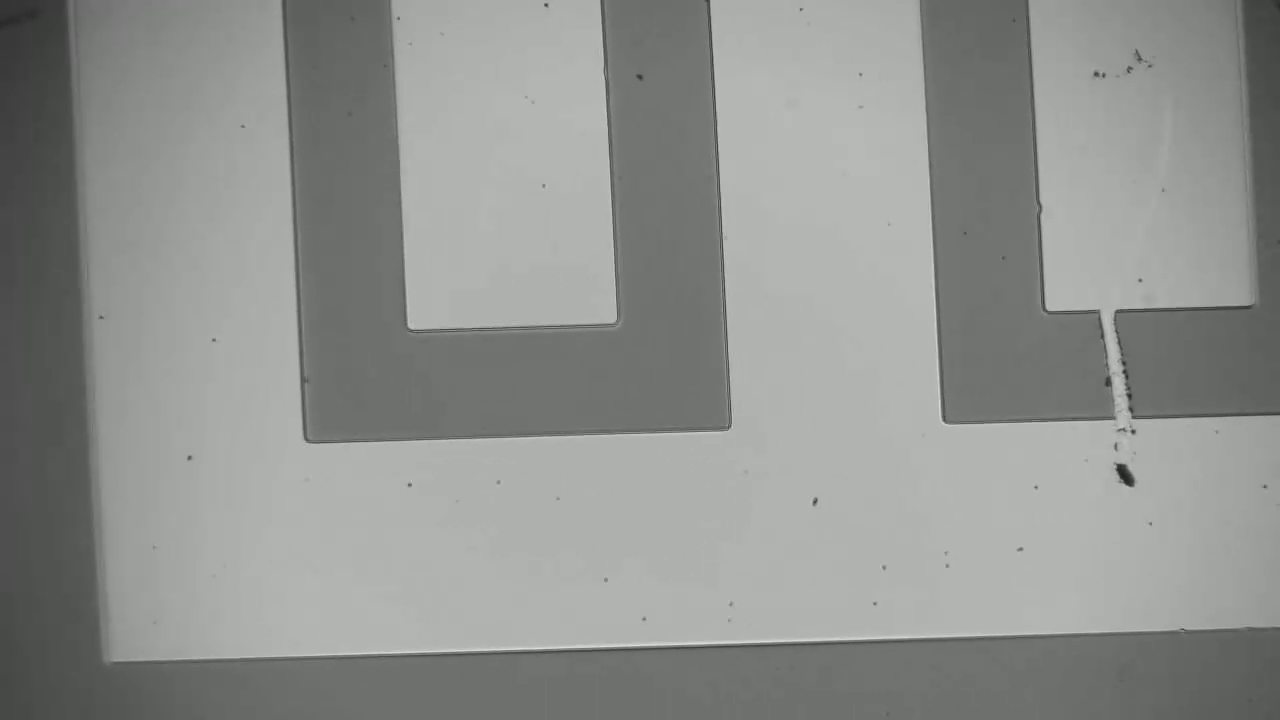Short_circuit: (1079, 285, 1164, 445)
